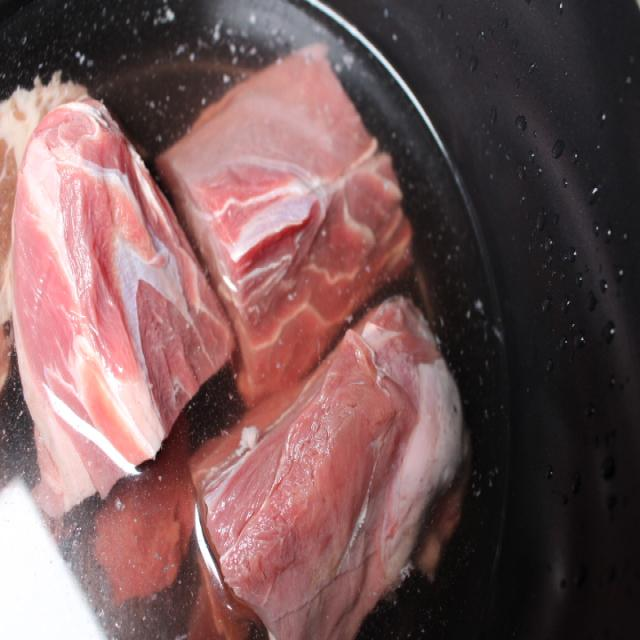beef: (56, 153, 327, 407)
